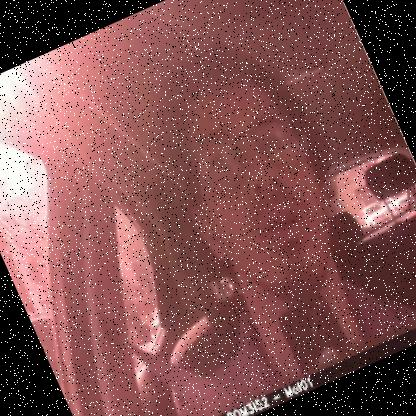phone: (265, 284, 357, 380)
